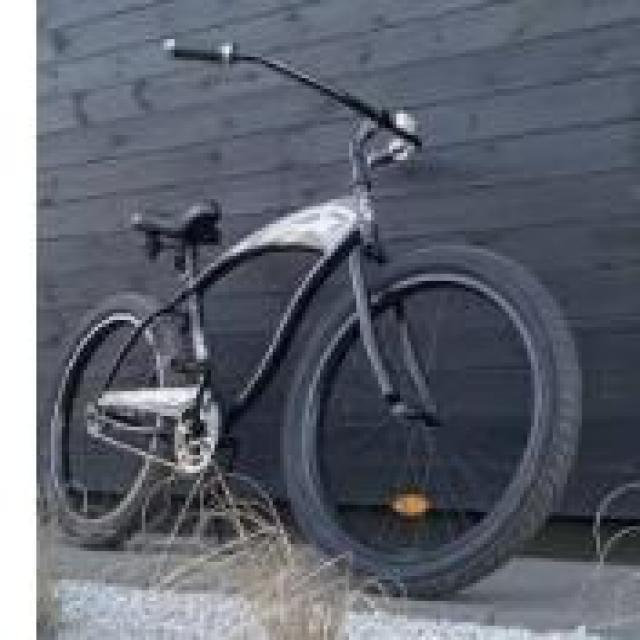bicycle: (60, 65, 598, 595)
